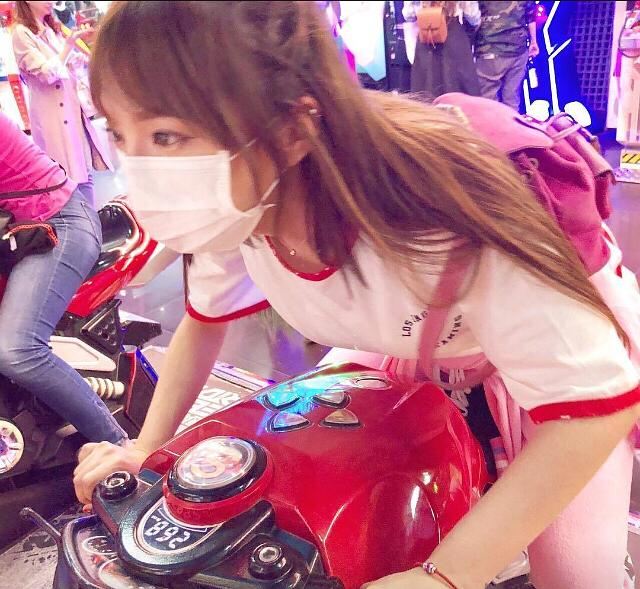mask: (95, 108, 322, 260)
